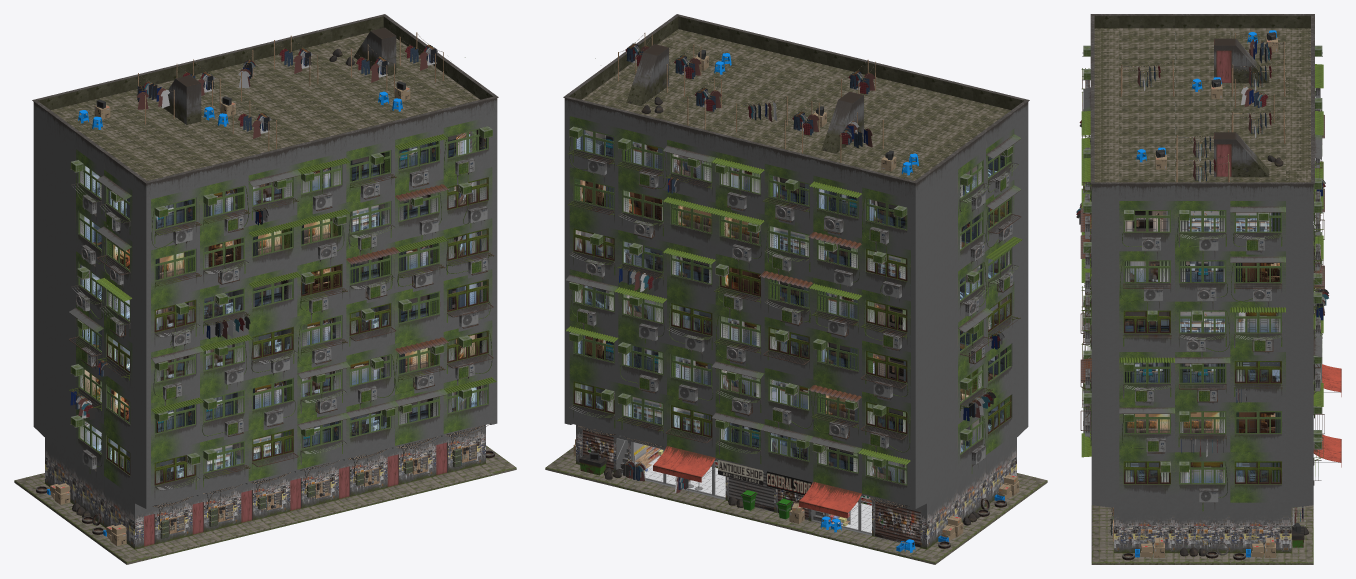
File: HongKongBuildA.fbx
3 renders of one model, left to right at view 1: azimuth 30°, elevation 25°; view 2: azimuth 150°, elevation 25°; view 3: azimuth 270°, elevation 25°, orthographic.
Parts seen in each view (by area): view 1: Cube (×2); view 2: Cube (×2); view 3: Cube (×2).
Part boxes in pixels (x1,y1,x2,y2): Cube (×2): [14, 14, 516, 564]; Cube (×2): [545, 14, 1047, 564]; Cube (×2): [1076, 14, 1341, 564].
Bounding box in the file's own units: 811 × 790 × 479.
